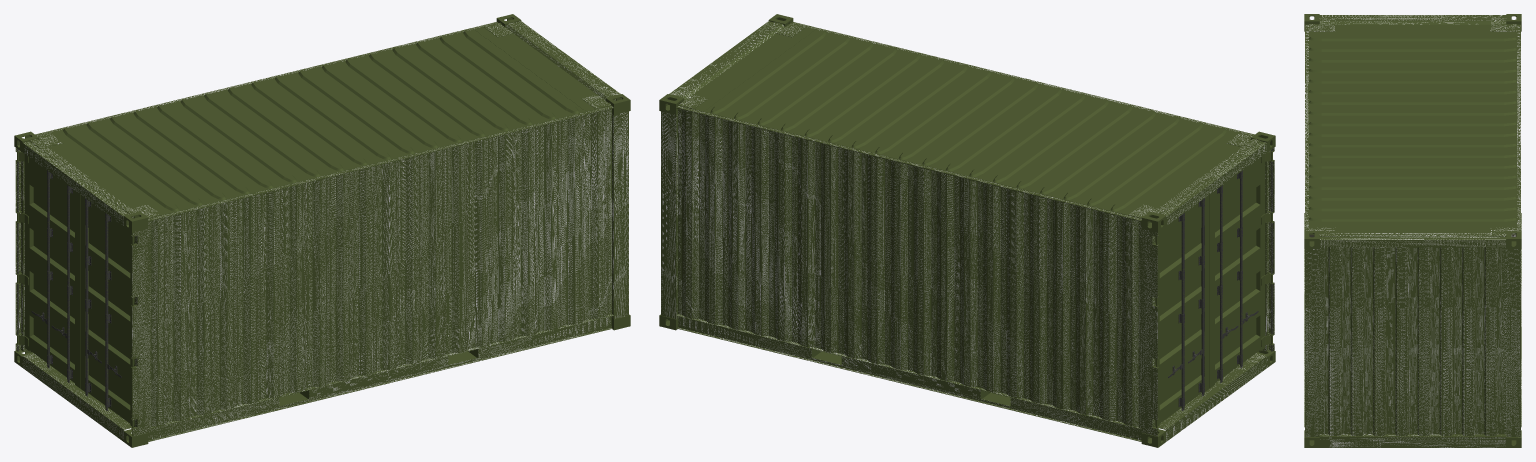
The model's file is CONTAINER20.dae.
The picture shows the model from 3 angles, left to right: view 1: azimuth 30°, elevation 25°; view 2: azimuth 150°, elevation 25°; view 3: azimuth 270°, elevation 25°; orthographic projection. The views are drawn at different scales.
Parts seen in each view (by area): view 1: group_4, group_5, Group_14 (×2), group_7 (×4), Component_6, Group_22 (×2), Component_3, Group_24 (×2), Component_4, Group_26, Group_5 (×2), Component_2; view 2: group_1, group_5, Group_14 (×2), group_7 (×4), Component_6, Group_22 (×2), Component_3, Group_24 (×2), Component_4, Group_26, Group_5 (×2), Component_2; view 3: group_5, group_6, Component_3 (×2), group_7 (×4), Component_4, Component_2, Group_24 (×2), Group_26, Group_25 (×2).
Part boxes in pixels (x1,y1,x2,y2): group_4: [151, 109, 611, 426]; group_5: [59, 29, 585, 212]; Group_14 (×2): [24, 157, 135, 426]; group_7 (×4): [30, 22, 614, 218]; Component_6: [148, 314, 613, 441]; Group_22 (×2): [15, 148, 151, 436]; Component_3: [610, 111, 628, 318]; Group_24 (×2): [35, 22, 613, 221]; Component_4: [22, 353, 131, 441]; Group_26: [22, 141, 133, 225]; Group_5 (×2): [85, 207, 108, 410]; Component_2: [515, 21, 620, 100]; group_1: [678, 109, 1138, 426]; group_5: [704, 29, 1230, 212]; Group_14 (×2): [1154, 157, 1265, 426]; group_7 (×4): [675, 22, 1259, 218]; Component_6: [676, 314, 1141, 441]; Group_22 (×2): [1138, 147, 1274, 436]; Component_3: [661, 111, 679, 318]; Group_24 (×2): [676, 22, 1254, 221]; Component_4: [1158, 353, 1267, 441]; Group_26: [1161, 141, 1267, 225]; Group_5 (×2): [1181, 207, 1204, 410]; Component_2: [669, 21, 774, 95]; group_5: [1309, 35, 1516, 222]; group_6: [1324, 247, 1501, 435]; Component_3 (×2): [1305, 247, 1520, 437]; group_7 (×4): [1309, 17, 1516, 236]; Component_4: [1319, 434, 1506, 447]; Component_2: [1319, 237, 1506, 247]; Group_24 (×2): [1305, 24, 1520, 231]; Group_26: [1319, 15, 1506, 17]; Group_25 (×2): [1304, 231, 1521, 248].
Bounding box in the file's own units: 235 × 95.96 × 102.
